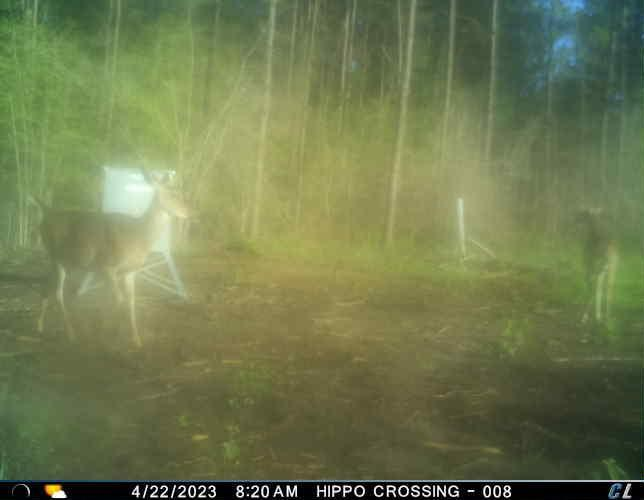Deer: (28, 166, 194, 353), (576, 204, 619, 332)
